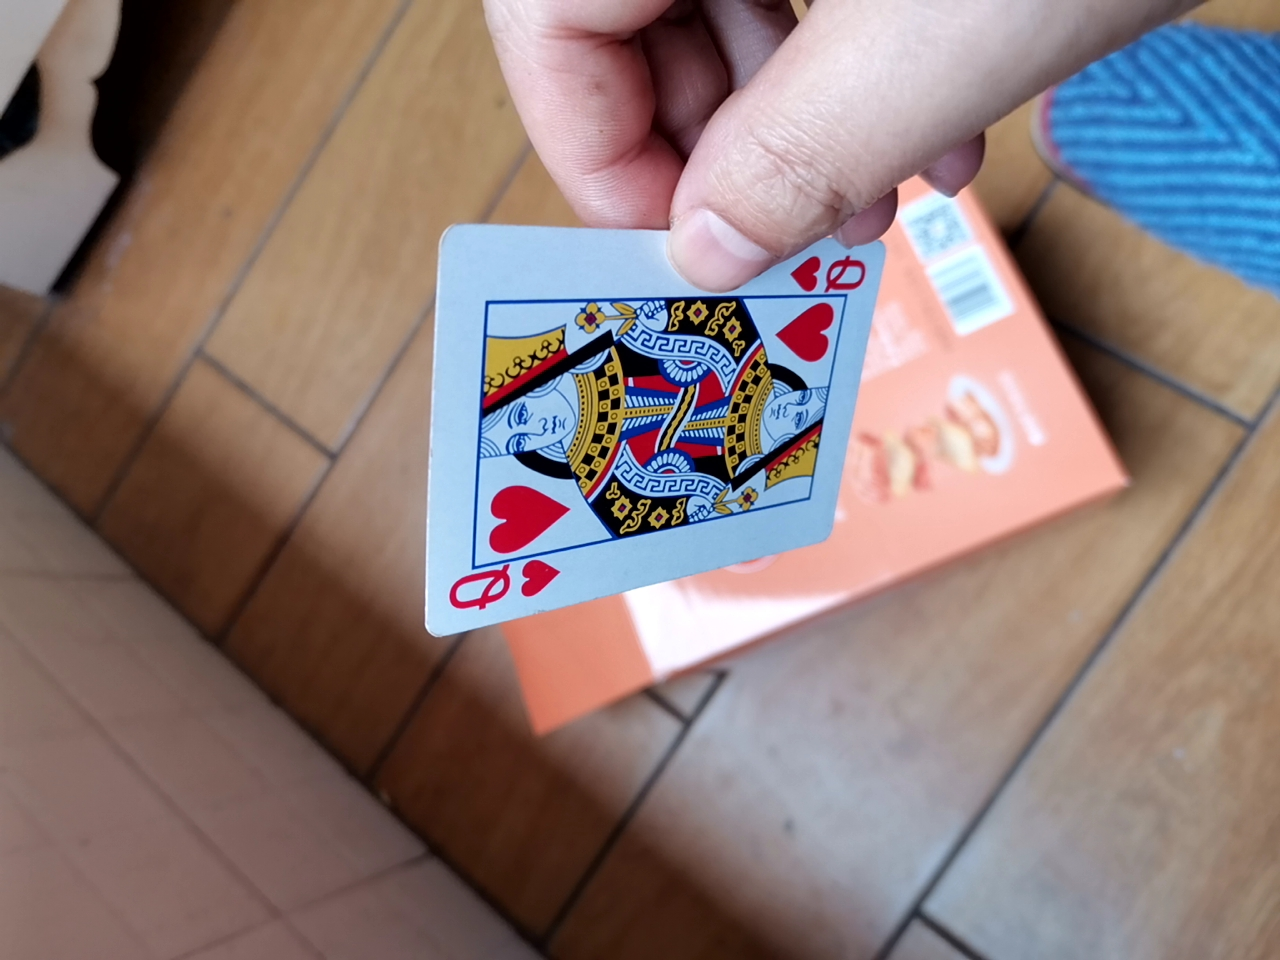hx q: (418, 196, 938, 670)
